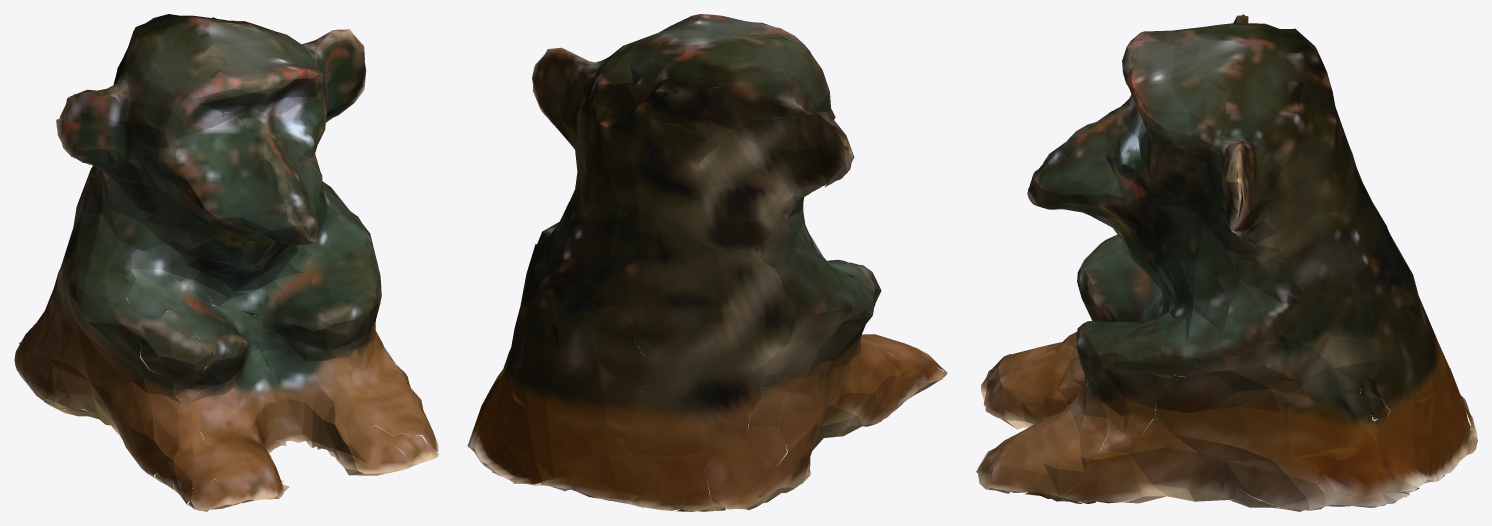
The model's file is Trungus1.glb.
3 renders of one model, left to right at view 1: azimuth 30°, elevation 25°; view 2: azimuth 150°, elevation 25°; view 3: azimuth 270°, elevation 25°, orthographic. The views are drawn at different scales.
Parts seen in each view (by area): view 1: Mesh; view 2: Mesh; view 3: Mesh.
Part boxes in pixels (<box>): Mesh: <box>14,14,438,511</box>; Mesh: <box>467,14,947,511</box>; Mesh: <box>976,14,1477,511</box>.
Bounding box in the file's own units: 2.62 × 3.11 × 3.49.
Materials: 1 (1 with a texture image).
